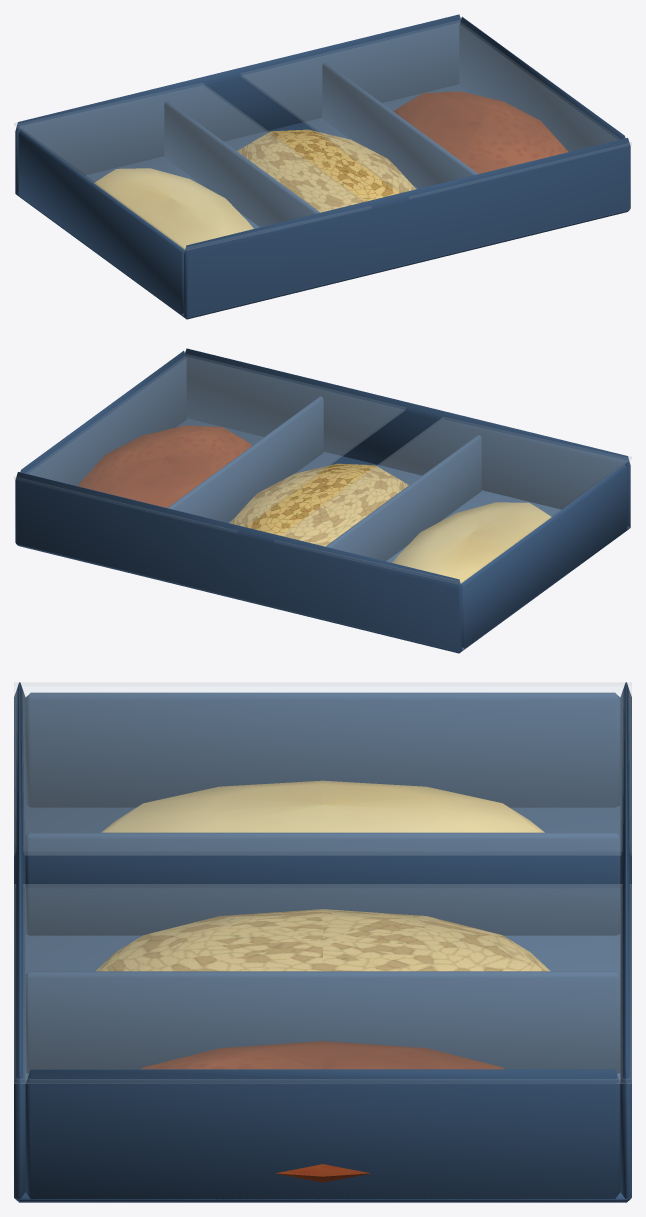
File: ration_freeze_dried_tray.glb
3 renders of one model, top to bottom at view 1: azimuth 30°, elevation 25°; view 2: azimuth 150°, elevation 25°; view 3: azimuth 270°, elevation 25°, orthographic. The views are drawn at different scales.
Visible parts, largest first — view 1: ration_freeze_dried_tray; view 2: ration_freeze_dried_tray; view 3: ration_freeze_dried_tray.
Part boxes in pixels (<box>): ration_freeze_dried_tray: <box>14,14,631,319</box>; ration_freeze_dried_tray: <box>14,348,631,653</box>; ration_freeze_dried_tray: <box>14,682,631,1202</box>.
Size of the model in its own units: 0.242 by 0.042 by 0.16.
Materials: 5 (3 with a texture image).
